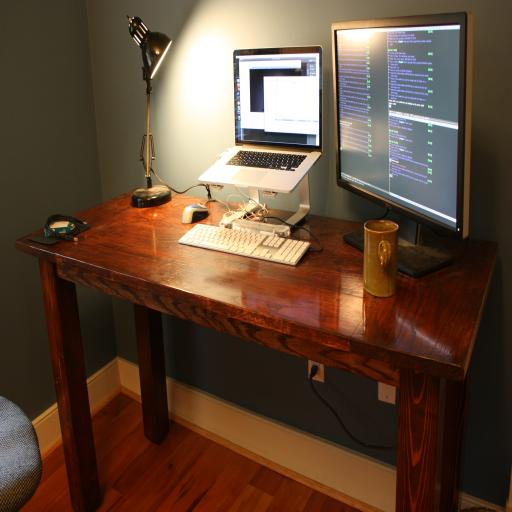chair: (0, 396, 42, 512)
desk: (15, 187, 499, 511)
wall: (87, 0, 512, 506), (0, 0, 117, 421)
